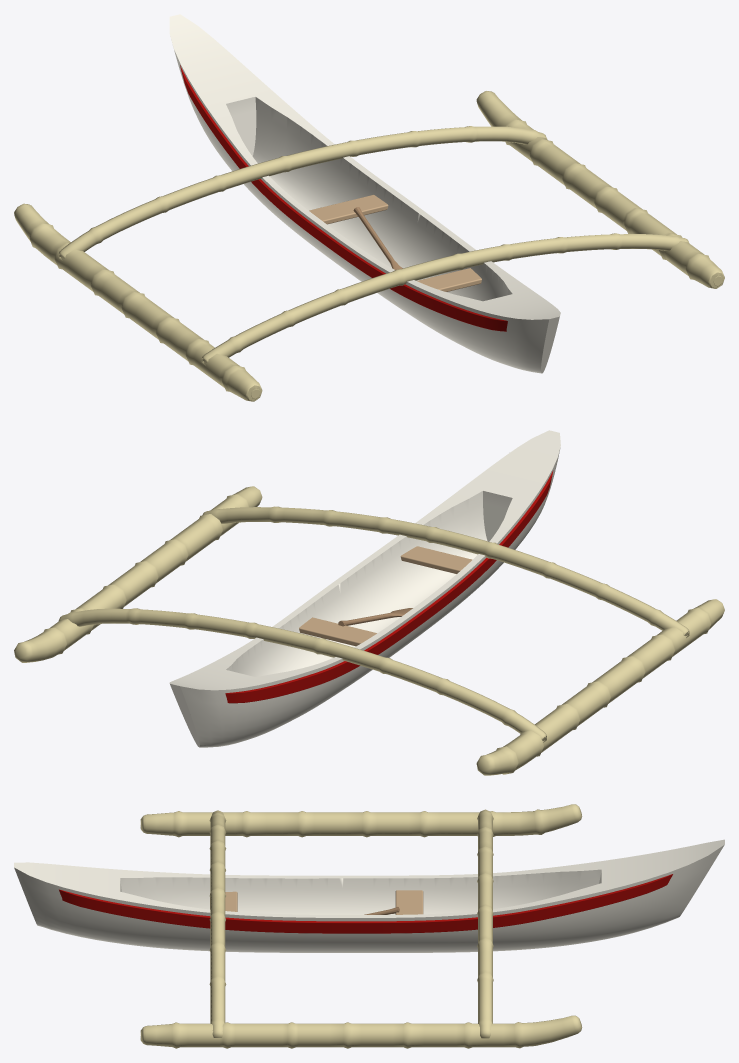
Rendered from boat_bangka_2000.glb.
The picture shows the model from 3 angles, top to bottom: view 1: azimuth 30°, elevation 25°; view 2: azimuth 150°, elevation 25°; view 3: azimuth 270°, elevation 25°; orthographic projection. The views are drawn at different scales.
Visible parts, largest first — view 1: bangka_2000_paint_hull, bangka_2000_bamboo, bangka_2000_paint_trim, bangka_2000_plank; view 2: bangka_2000_bamboo, bangka_2000_paint_hull, bangka_2000_paint_trim, bangka_2000_plank; view 3: bangka_2000_paint_hull, bangka_2000_bamboo, bangka_2000_paint_trim, bangka_2000_plank.
Boxes of the visible parts, bbox=[...] form: bangka_2000_paint_hull: bbox=[169, 14, 560, 373]; bangka_2000_bamboo: bbox=[14, 91, 724, 401]; bangka_2000_paint_trim: bbox=[180, 65, 507, 331]; bangka_2000_plank: bbox=[309, 194, 481, 291]; bangka_2000_bamboo: bbox=[14, 486, 724, 775]; bangka_2000_paint_hull: bbox=[169, 430, 560, 747]; bangka_2000_paint_trim: bbox=[225, 470, 553, 703]; bangka_2000_plank: bbox=[299, 546, 472, 646]; bangka_2000_paint_hull: bbox=[14, 839, 724, 952]; bangka_2000_bamboo: bbox=[140, 804, 582, 1048]; bangka_2000_paint_trim: bbox=[59, 874, 672, 933]; bangka_2000_plank: bbox=[210, 890, 423, 914].
Size of the model in its own units: 4.6 by 1.02 by 6.19.
